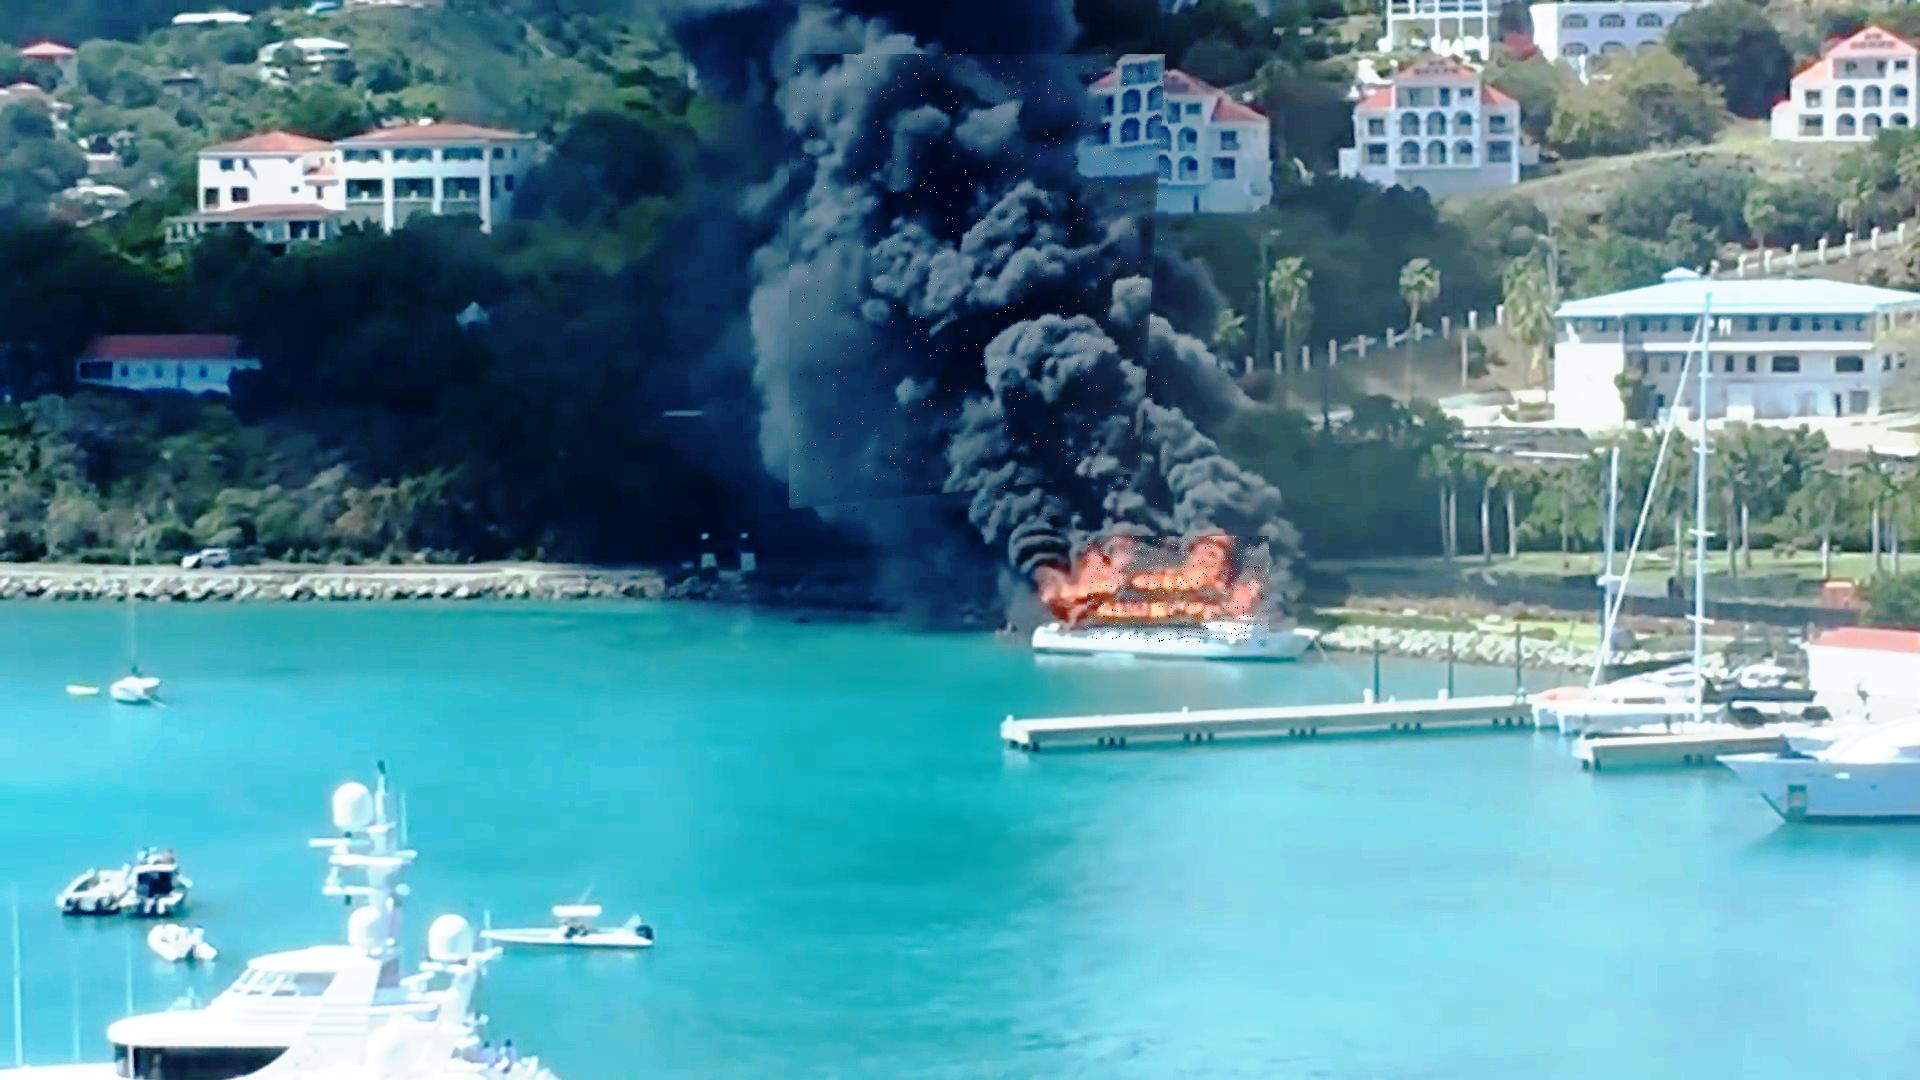fire: (1087, 537, 1269, 642)
smoke: (790, 54, 1168, 514)
